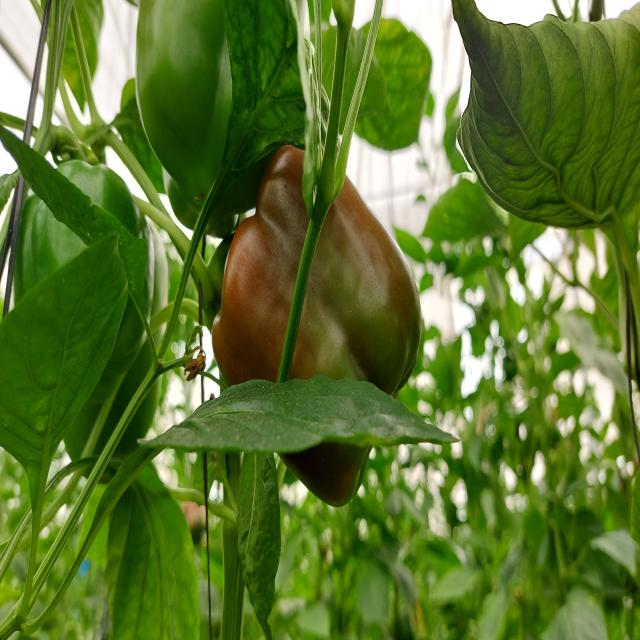BrownishRed--Can-be-Harvested: (208, 143, 422, 508)
